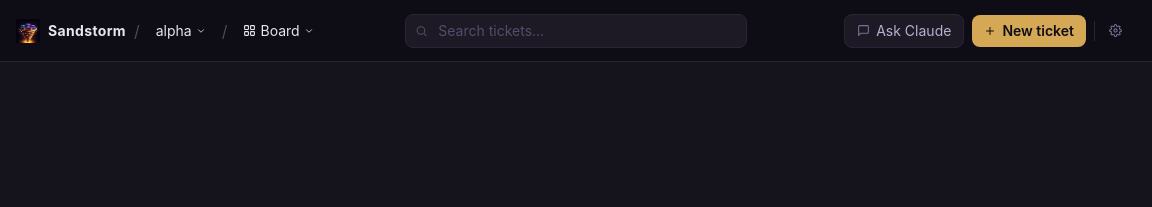
Scenario: TopNav › opens workspace dropdown on button click
Click the button with test id "workspace-switcher-btn".
click(181, 30)  # box left=148, top=16, right=214, bottom=44
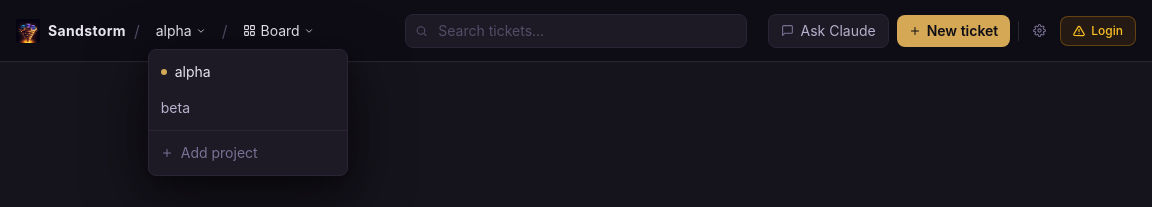
Check: the element with test id "workspace-dropdown" is shown, box left=148, top=48, right=348, bottom=176
